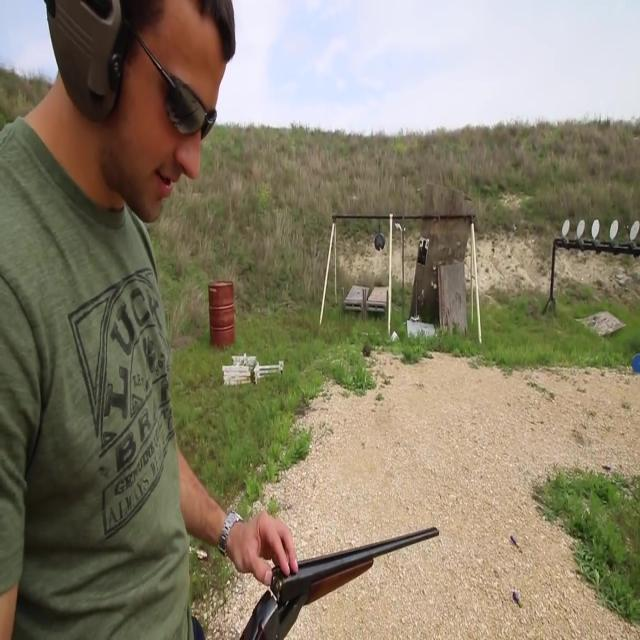Weapon: (222, 504, 462, 640)
